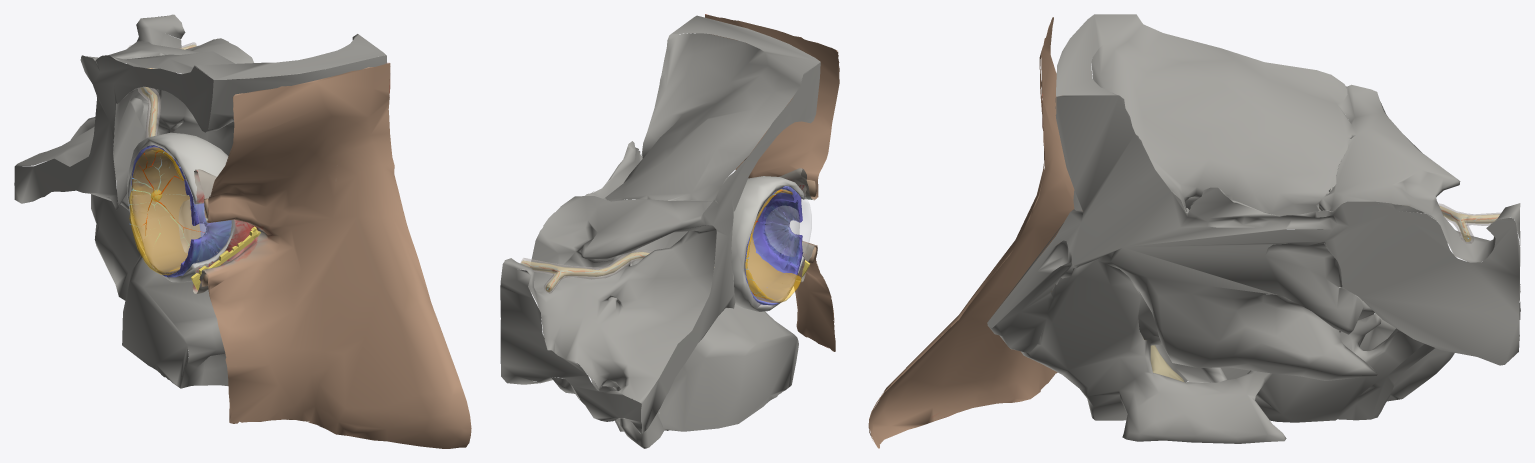
The model's file is que_es_conjuntivitis.glb.
3 views of the same model, side by side, from view 1: azimuth 30°, elevation 25°; view 2: azimuth 150°, elevation 25°; view 3: azimuth 270°, elevation 25° (orthographic). The views are drawn at different scales.
Visible parts, largest first — view 1: SickEye.101; view 2: SickEye.101; view 3: SickEye.101.
Part boxes in pixels (x1,y1,x2,y2): SickEye.101: [14, 14, 471, 448]; SickEye.101: [500, 14, 839, 448]; SickEye.101: [868, 14, 1520, 448].
Size of the model in its own units: 0.0345 by 0.0648 by 0.107.
15 materials, 1 textured.
